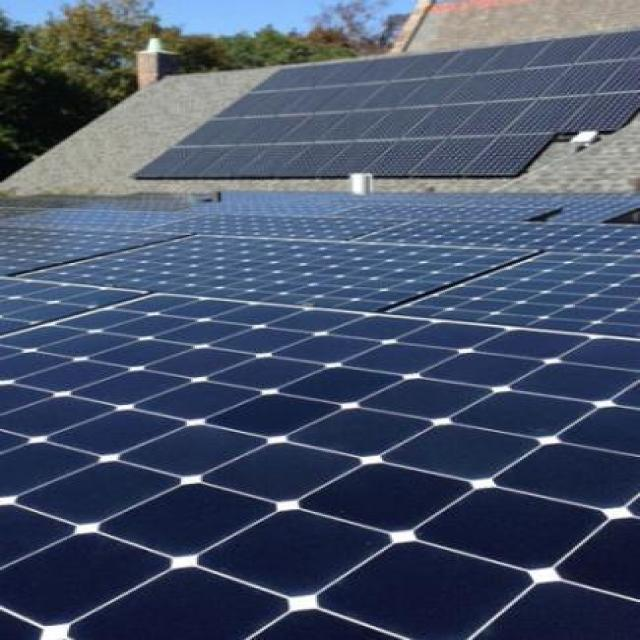Non Defective: (33, 336, 616, 630), (118, 250, 546, 332), (217, 204, 560, 249)
